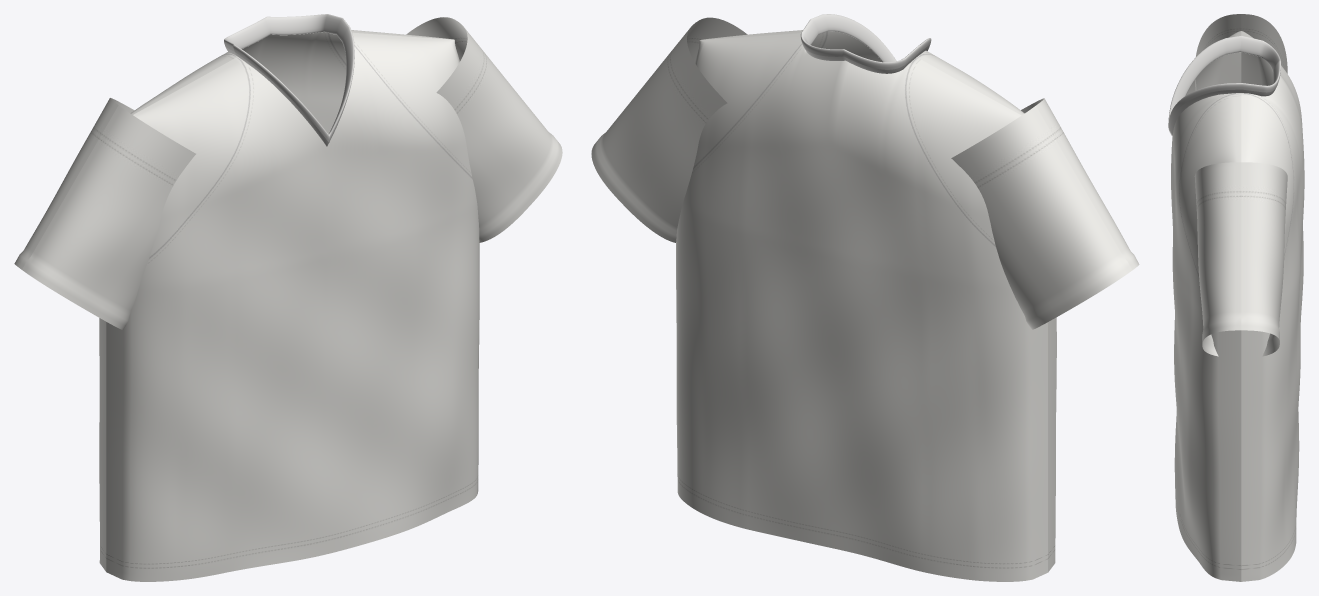
Rendered from maillot-homme.glb.
The picture shows the model from 3 angles, left to right: view 1: azimuth 30°, elevation 25°; view 2: azimuth 150°, elevation 25°; view 3: azimuth 270°, elevation 25°; orthographic projection. The views are drawn at different scales.
Visible parts, largest first — view 1: Devant, Manche_gauche, Manche_droite, Dos, Col; view 2: Dos, Manche_gauche, Manche_droite, Devant, Col; view 3: Devant, Dos, Manche_droite, Col, Manche_gauche.
Boxes of the visible parts, x1,y1,x2,y2 form: Devant: (106, 32, 479, 581); Manche_gauche: (14, 98, 195, 329); Manche_droite: (406, 17, 562, 242); Dos: (99, 30, 453, 571); Col: (224, 14, 354, 146); Dos: (676, 33, 1047, 581); Manche_gauche: (951, 98, 1139, 329); Manche_droite: (591, 17, 747, 242); Devant: (701, 30, 1056, 572); Col: (800, 14, 931, 73); Devant: (1171, 31, 1241, 581); Dos: (1241, 31, 1304, 581); Manche_droite: (1194, 162, 1287, 356); Col: (1168, 35, 1280, 136); Manche_gauche: (1194, 14, 1287, 90).
Bounding box in the file's own units: 0.8048 × 0.7151 × 0.1992.
4 materials, 4 textured.
